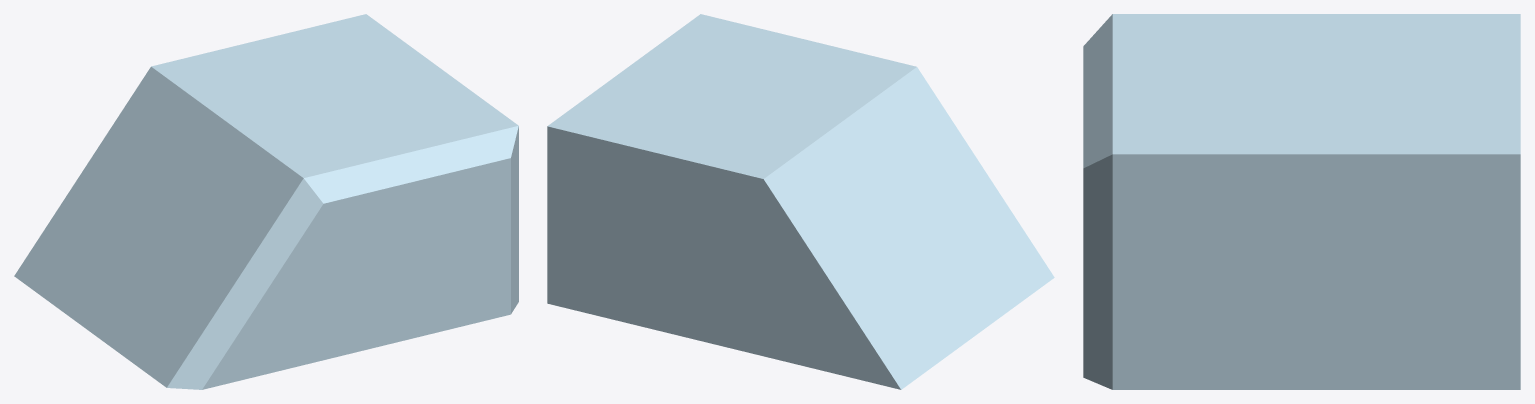
File: STAM - M7-0.gltf
3 renders of one model, left to right at view 1: azimuth 30°, elevation 25°; view 2: azimuth 150°, elevation 25°; view 3: azimuth 270°, elevation 25°, orthographic. The views are drawn at different scales.
Parts seen in each view (by area): view 1: M7-0; view 2: M7-0; view 3: M7-0.
Boxes of the visible parts, <box> form: M7-0: <box>14,14,518,389</box>; M7-0: <box>547,14,1054,389</box>; M7-0: <box>1083,14,1520,389</box>.
Size of the model in its own units: 0.0186 by 0.00892 by 0.015.
